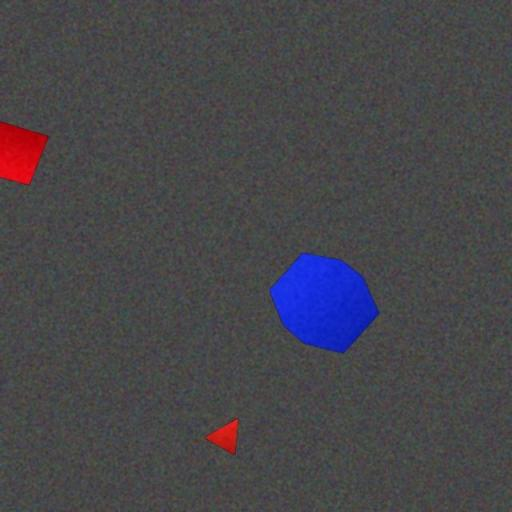RED_SQUARE: (0, 120, 50, 186)
